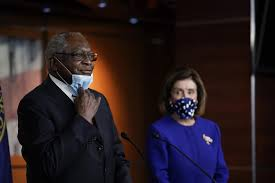mask_weared_incorrect: (68, 45, 100, 87)
with_mask: (173, 85, 198, 109)
